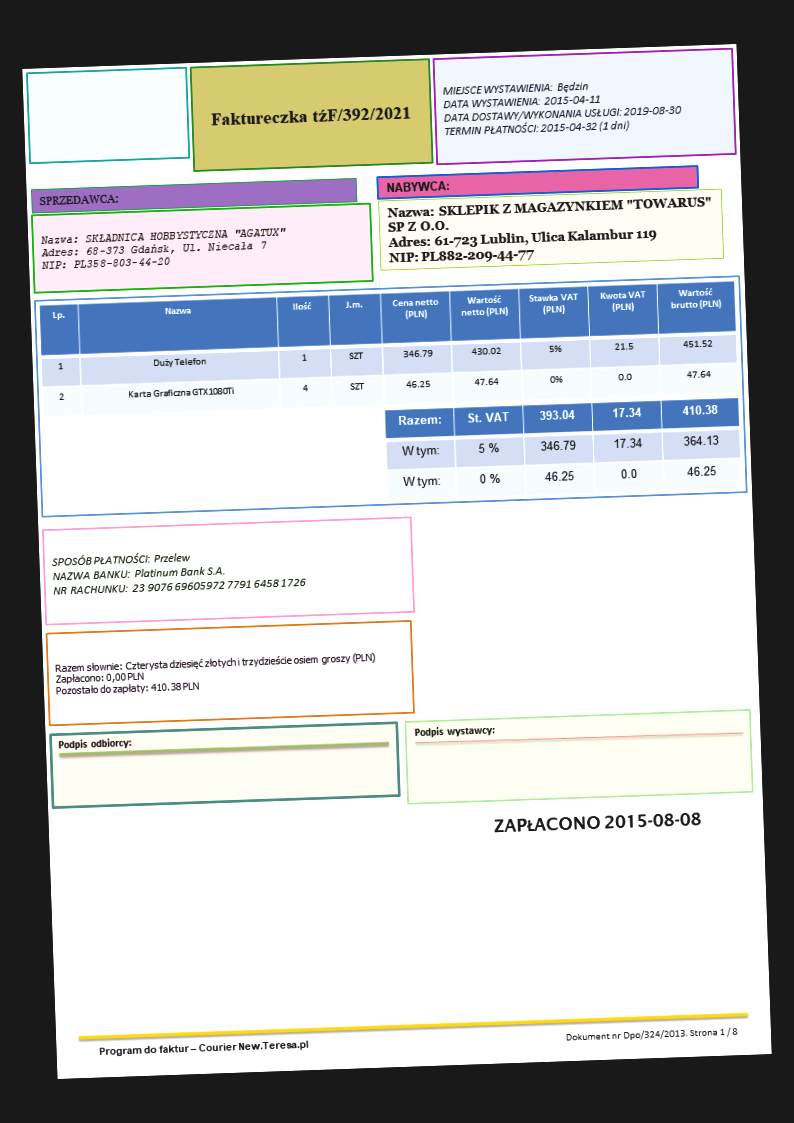Table: (39, 279, 739, 419), (384, 396, 742, 501)
TextBox: (385, 194, 715, 266), (54, 650, 378, 697), (441, 77, 684, 139), (49, 545, 308, 597), (39, 224, 288, 272), (209, 103, 411, 128), (492, 810, 702, 834), (96, 1037, 311, 1060), (564, 1024, 740, 1045), (412, 722, 496, 741), (37, 191, 122, 209), (56, 735, 133, 752), (385, 177, 451, 195)
